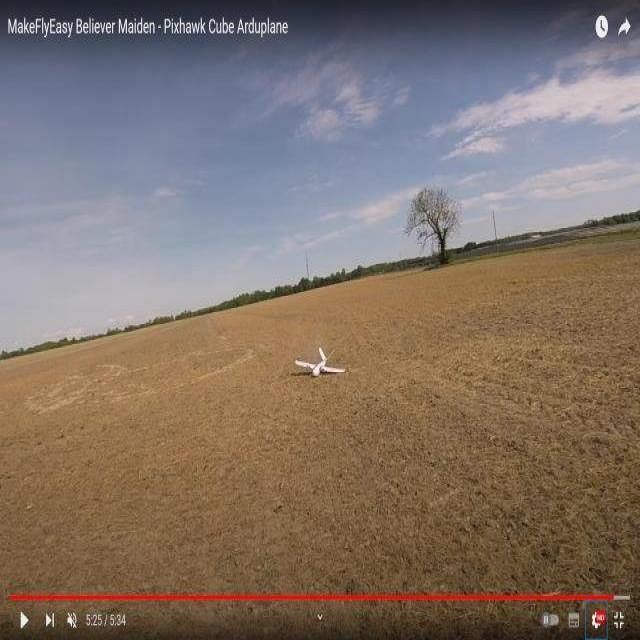iha: (302, 342, 346, 387)
